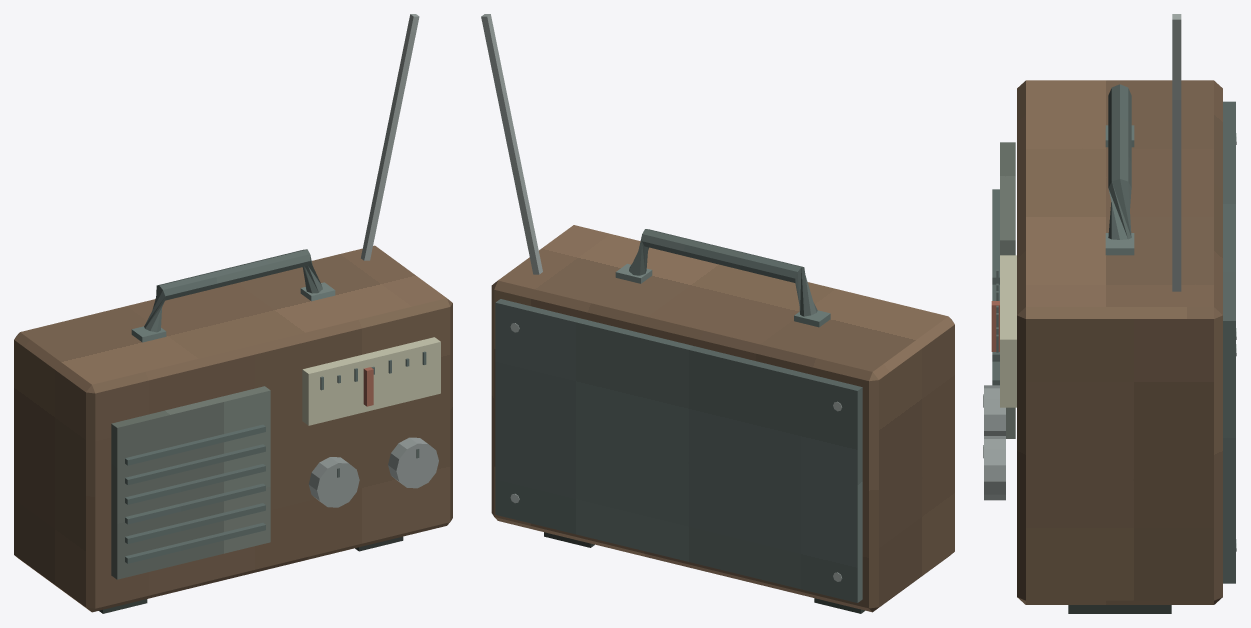
Rendered from radio-small.glb.
The picture shows the model from 3 angles, left to right: view 1: azimuth 30°, elevation 25°; view 2: azimuth 150°, elevation 25°; view 3: azimuth 270°, elevation 25°; orthographic projection. The views are drawn at different scales.
Visible parts, largest first — view 1: radio-small/case, radio-small/speaker, radio-small/tuning-window, radio-small/carry-handle, radio-small/aerial, radio-small/knob-0.155, radio-small/knob-0.062, radio-small/grille-1, radio-small/grille-3, radio-small/grille-2, radio-small/grille-4, radio-small/grille-5 (+1 smaller); view 2: radio-small/rear, radio-small/case, radio-small/carry-handle, radio-small/aerial; view 3: radio-small/case, radio-small/rear, radio-small/carry-handle, radio-small/aerial, radio-small/tuning-window, radio-small/speaker, radio-small/knob-0.155, radio-small/knob-0.062, radio-small/foot-0.15, radio-small/grille-5, radio-small/detail-handle-socket-1, radio-small/dial-pointer.
Boxes of the visible parts, bbox=[...] form: radio-small/case: bbox=[14, 245, 452, 612]; radio-small/speaker: bbox=[111, 386, 270, 579]; radio-small/tuning-window: bbox=[302, 337, 440, 425]; radio-small/carry-handle: bbox=[144, 249, 322, 332]; radio-small/aerial: bbox=[361, 14, 419, 260]; radio-small/knob-0.155: bbox=[388, 437, 438, 488]; radio-small/knob-0.062: bbox=[308, 457, 359, 507]; radio-small/grille-1: bbox=[125, 503, 265, 544]; radio-small/grille-3: bbox=[125, 464, 265, 504]; radio-small/grille-2: bbox=[125, 483, 265, 524]; radio-small/grille-4: bbox=[125, 444, 265, 485]; radio-small/grille-5: bbox=[125, 424, 265, 465]; radio-small/rear: bbox=[495, 299, 862, 602]; radio-small/case: bbox=[491, 225, 954, 612]; radio-small/carry-handle: bbox=[629, 229, 817, 316]; radio-small/aerial: bbox=[481, 14, 542, 274]; radio-small/case: bbox=[1017, 80, 1222, 604]; radio-small/rear: bbox=[1223, 101, 1235, 583]; radio-small/carry-handle: bbox=[1108, 84, 1131, 239]; radio-small/aerial: bbox=[1172, 14, 1181, 291]; radio-small/tuning-window: bbox=[1000, 255, 1016, 407]; radio-small/speaker: bbox=[1000, 142, 1015, 438]; radio-small/knob-0.155: bbox=[984, 436, 1005, 500]; radio-small/knob-0.062: bbox=[984, 385, 1005, 435]; radio-small/foot-0.15: bbox=[1068, 605, 1171, 613]; radio-small/grille-5: bbox=[992, 189, 999, 284]; radio-small/detail-handle-socket-1: bbox=[1105, 233, 1134, 255]; radio-small/dial-pointer: bbox=[991, 301, 999, 351].
Bounding box in the file's own units: 0.4564 × 0.5408 × 0.1965.
Materials: 7 (7 with a texture image).
